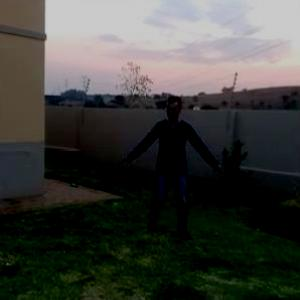land: (122, 87, 224, 240)
